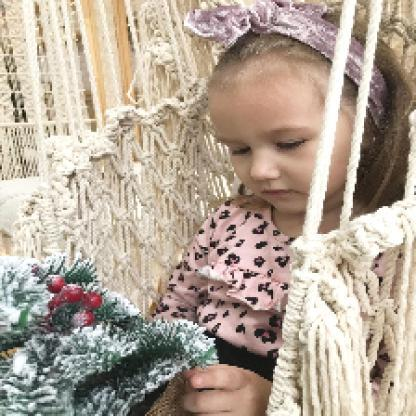child: (148, 5, 416, 416)
